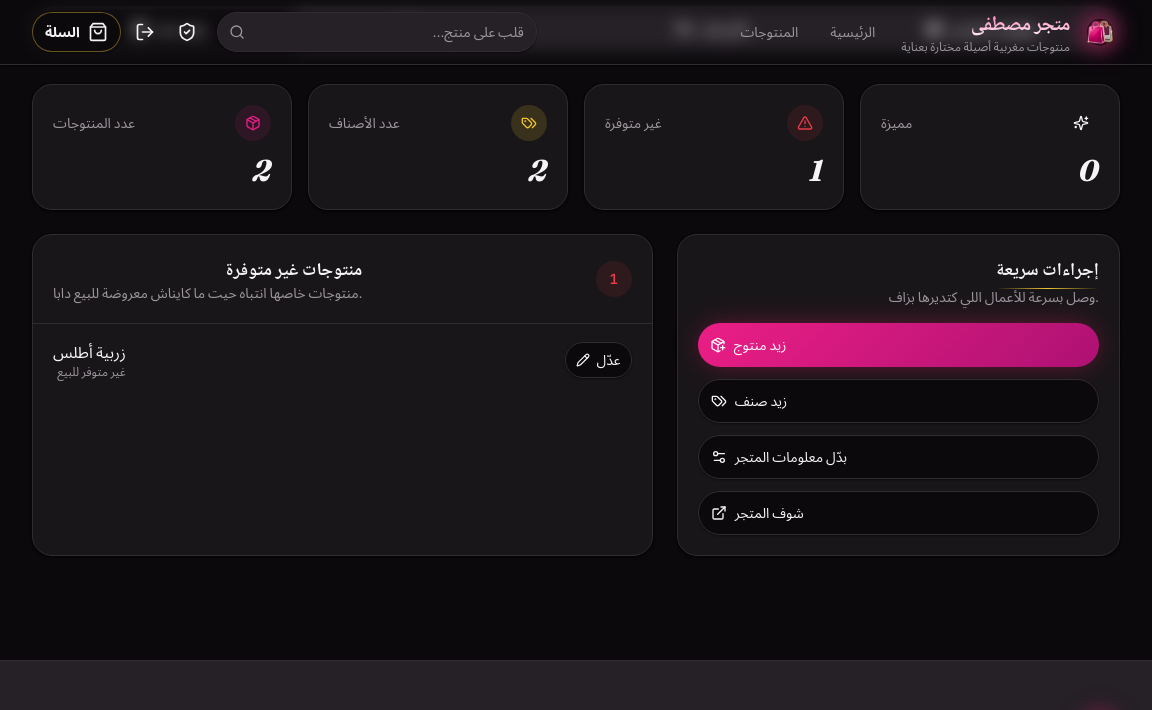
it: admin overview tab › lists unavailable products and opens the edit dialog from the list
(page scrolled)
Expected: the text "زربية أطلس" is shown, [53, 340, 126, 364]
Click the button "عدّل" at (598, 360), box [565, 342, 632, 378]
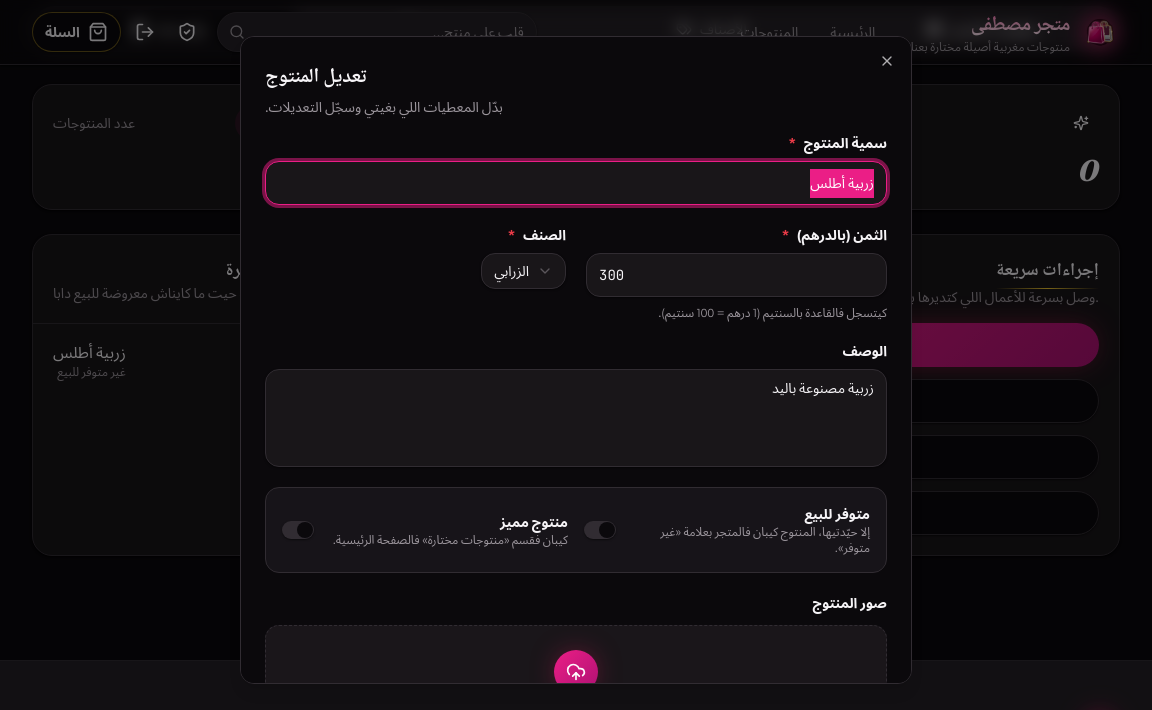
Expected: the dialog is shown, [240, 36, 912, 684]
Expected: the heading "تعديل المنتوج" is shown, [265, 62, 366, 87]
